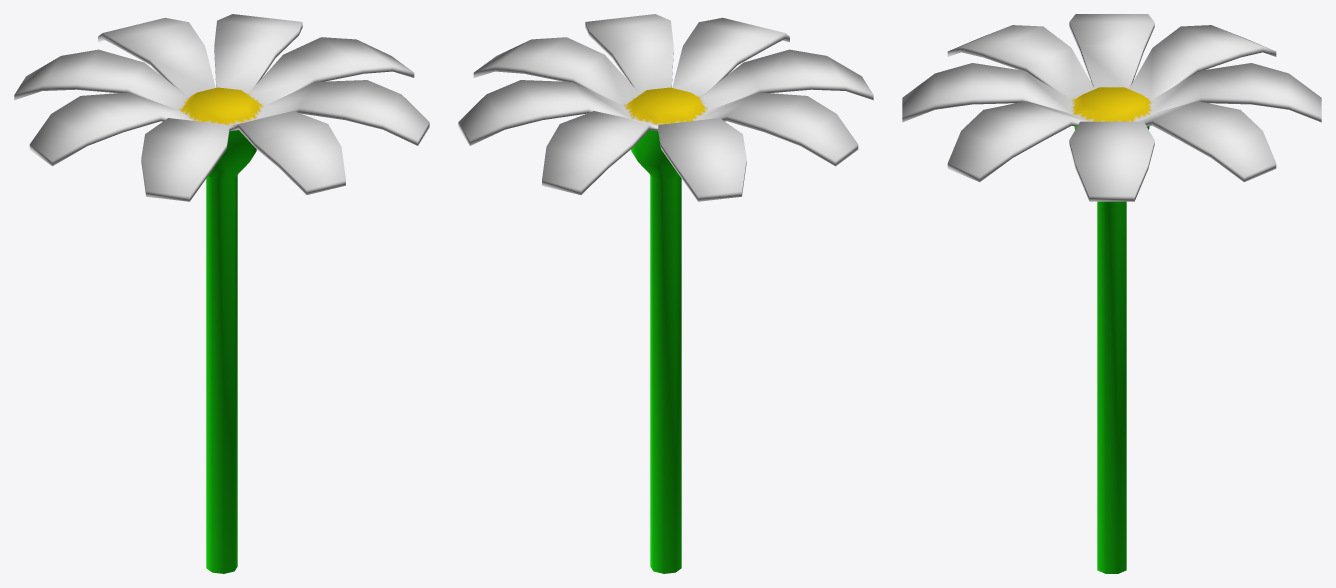
Rendered from flower_LOD0.fbx.
3 renders of one model, left to right at view 1: azimuth 30°, elevation 25°; view 2: azimuth 150°, elevation 25°; view 3: azimuth 270°, elevation 25°, orthographic.
Parts seen in each view (by area): view 1: flower_LOD0; view 2: flower_LOD0; view 3: flower_LOD0.
Boxes of the visible parts, box(x1,y1,x2,y2) form: flower_LOD0: box(14, 14, 429, 573); flower_LOD0: box(458, 14, 873, 573); flower_LOD0: box(902, 14, 1321, 573).
Bounding box in the file's own units: 31.12 × 39.88 × 31.12.
